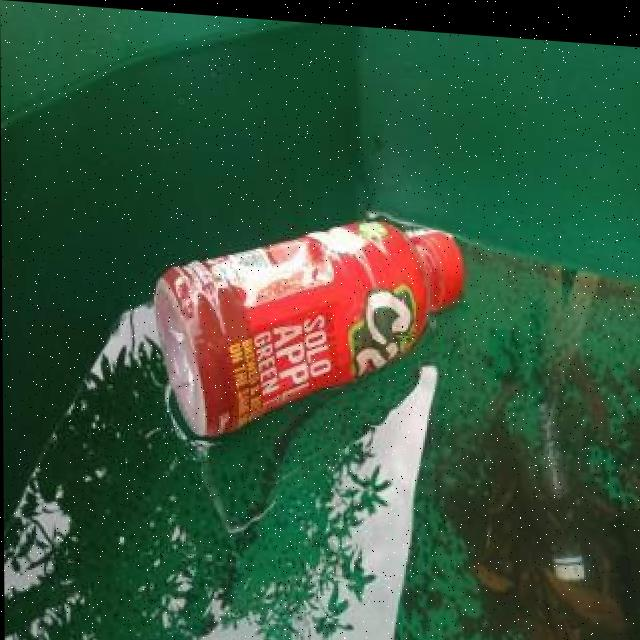bottle: (148, 197, 465, 451)
